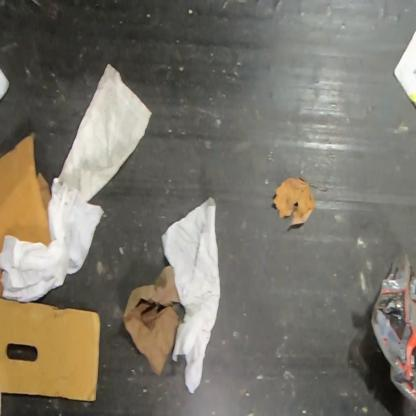cardboard: (0, 296, 101, 402), (0, 130, 54, 258)
soft_plastic: (369, 250, 415, 409)
